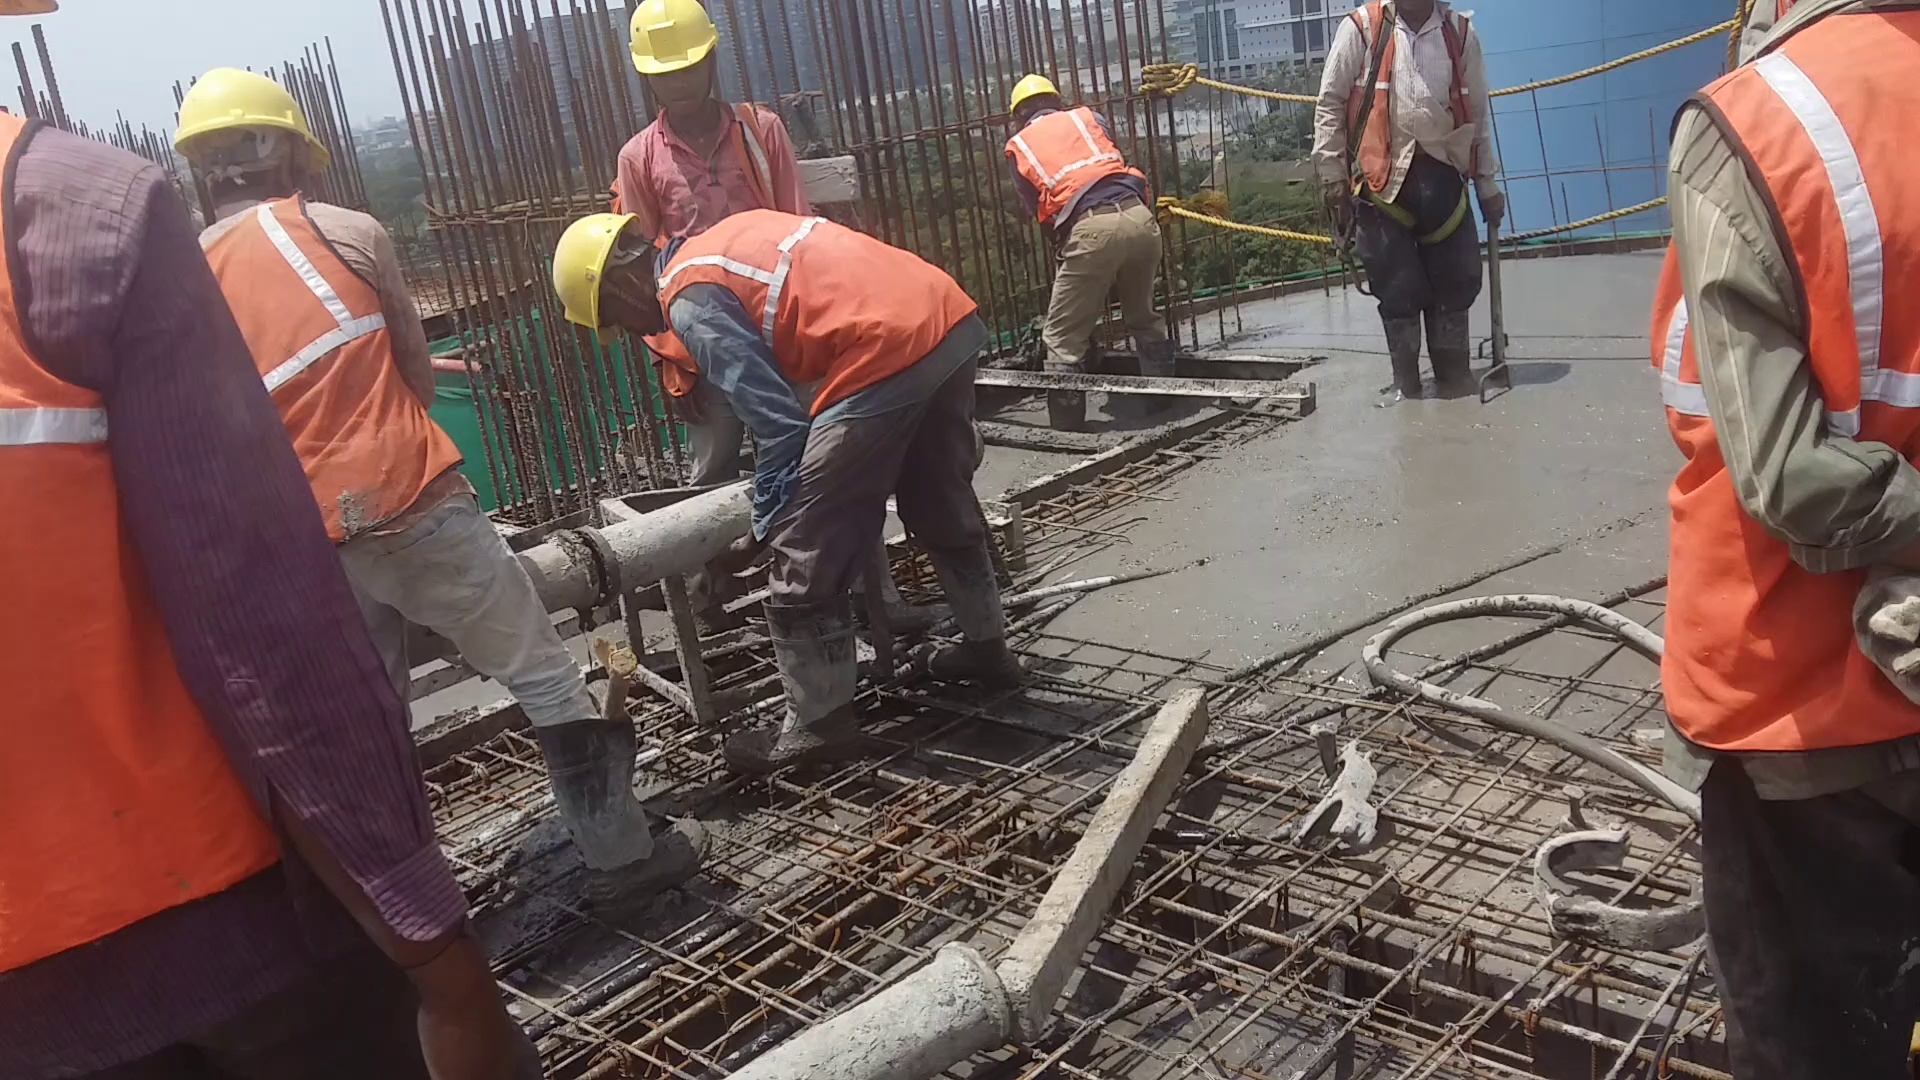SAFE: (170, 61, 396, 530), (546, 198, 981, 423), (609, 1, 791, 214), (998, 75, 1137, 228)
